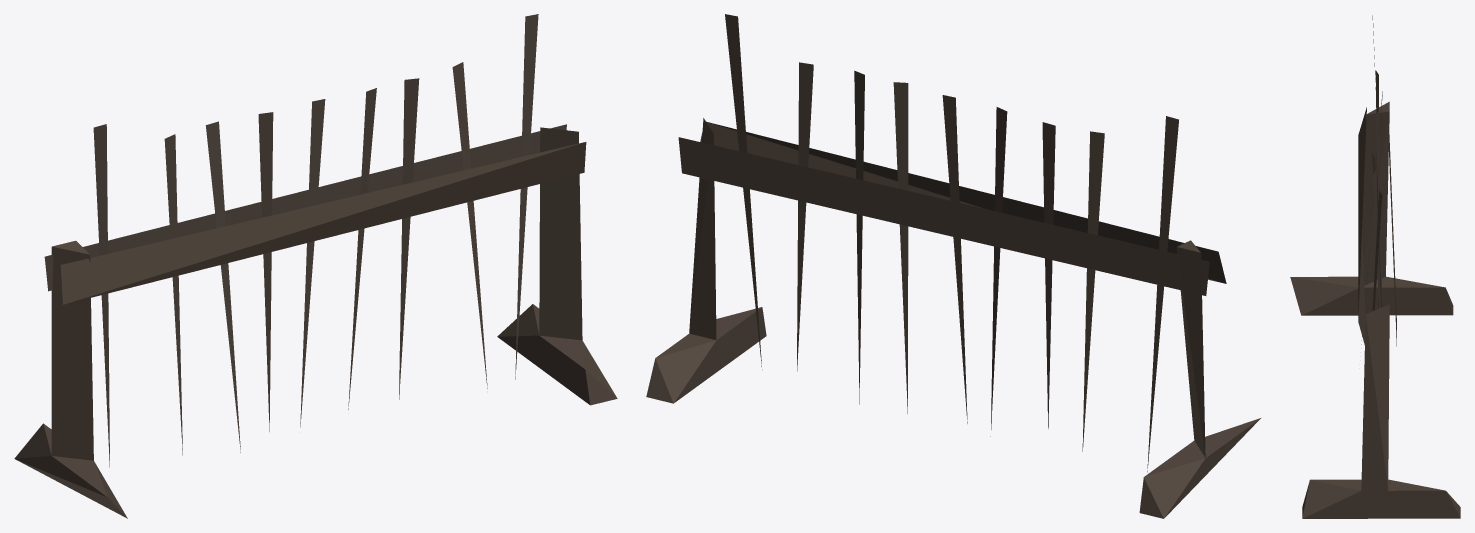
Rendered from spear-rack.lod2.glb.
The picture shows the model from 3 angles, left to right: view 1: azimuth 30°, elevation 25°; view 2: azimuth 150°, elevation 25°; view 3: azimuth 270°, elevation 25°; orthographic projection. The views are drawn at different scales.
Visible parts, largest first — view 1: defaultMaterial; view 2: defaultMaterial; view 3: defaultMaterial.
Part boxes in pixels (bbox=[...]): defaultMaterial: bbox=[14, 14, 617, 518]; defaultMaterial: bbox=[646, 14, 1260, 518]; defaultMaterial: bbox=[1290, 15, 1460, 518].
Bounding box in the file's own units: 1.83 × 1.19 × 0.6034.
